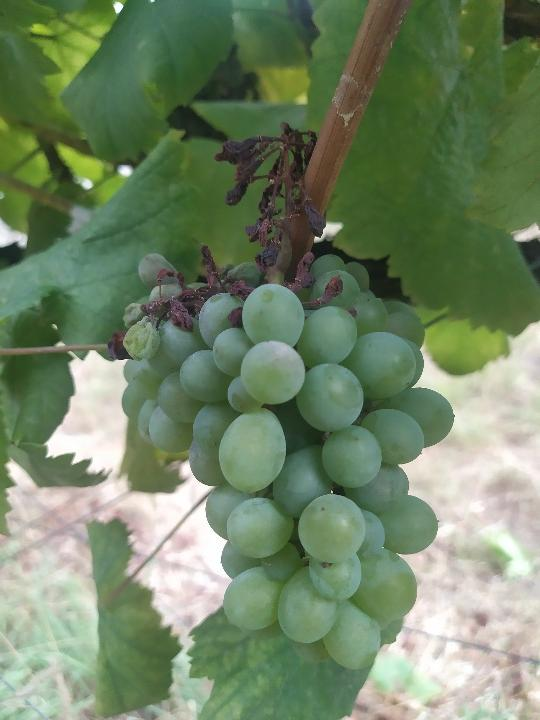grape: (105, 118, 458, 672)
